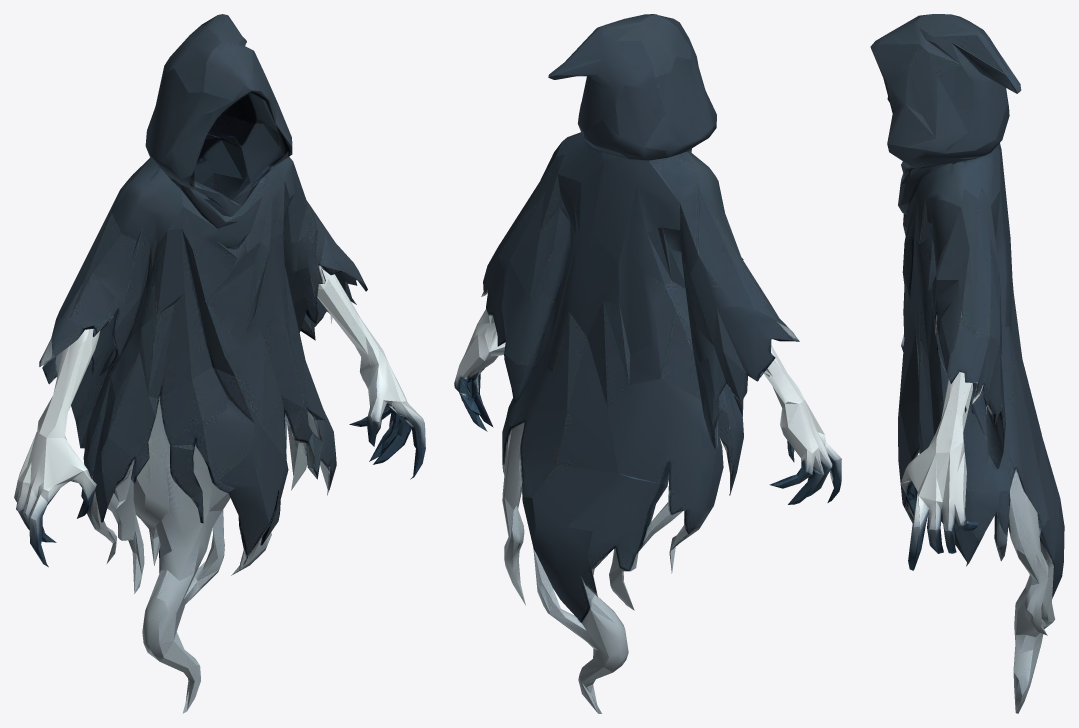
The model's file is wraith.glb.
3 renders of one model, left to right at view 1: azimuth 30°, elevation 25°; view 2: azimuth 150°, elevation 25°; view 3: azimuth 270°, elevation 25°, orthographic. The views are drawn at different scales.
Parts seen in each view (by area): view 1: mesh_node; view 2: mesh_node; view 3: mesh_node.
Boxes of the visible parts, x1,y1,x2,y2 form: mesh_node: (14,14,425,713); mesh_node: (454,14,841,713); mesh_node: (870,14,1064,713).
Size of the model in its own units: 1.1 by 1.9 by 0.4807.
Materials: 1 (1 with a texture image).
